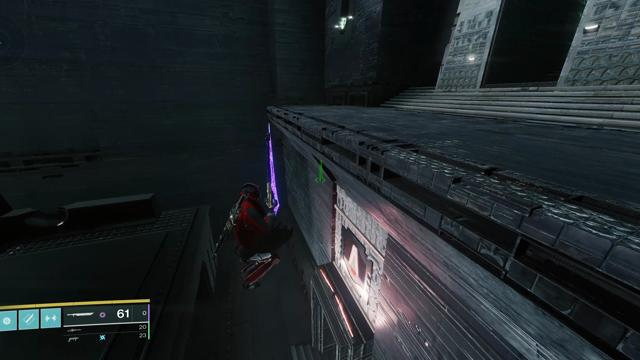enter: (341, 238, 368, 288)
